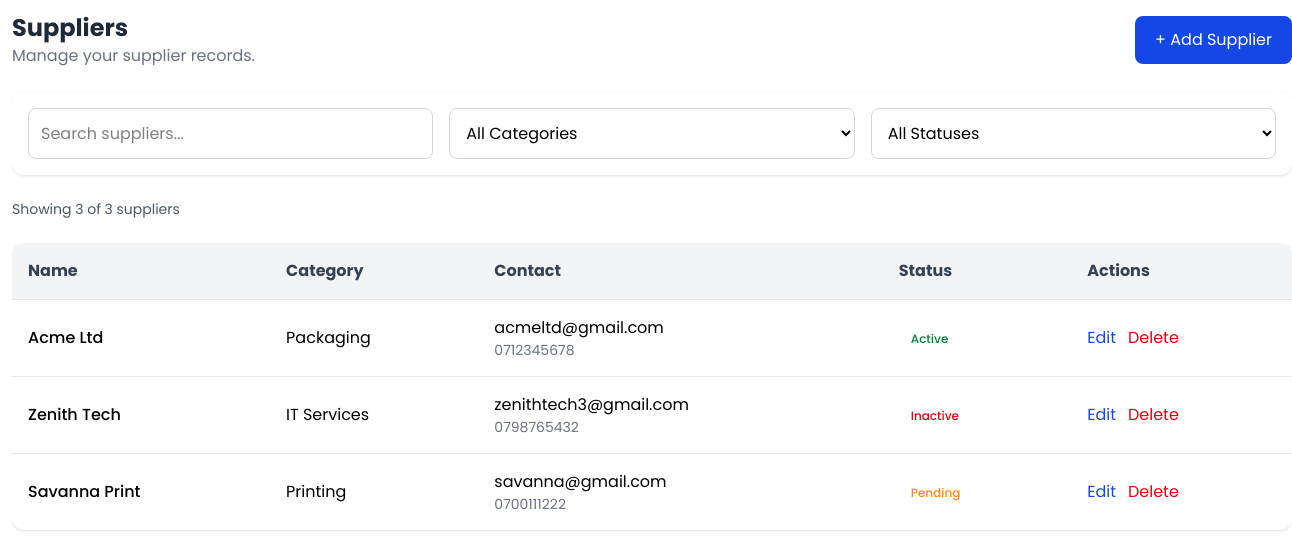
Test case: Suppliers Page › filters suppliers by status
Select "Inactive" in the dropdown named "filter by status". click: (1073, 134)
box: [871,108,1276,159]
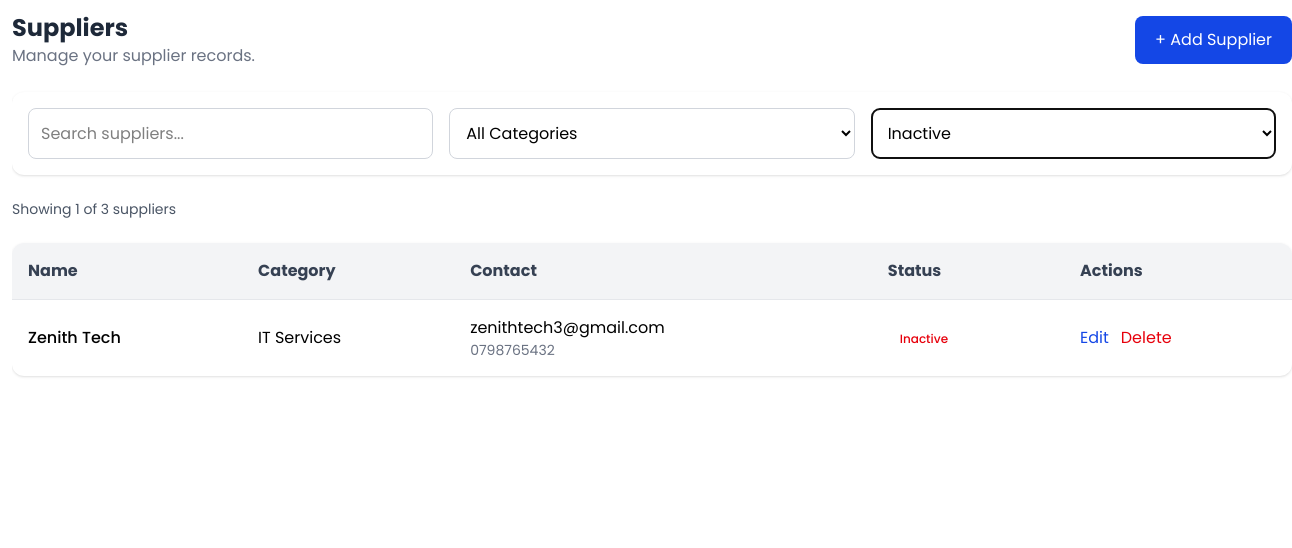
Check: the text "Zenith Tech" is shown, box [12,300,242,376]
Check: the text "Acme Ltd" is gone
